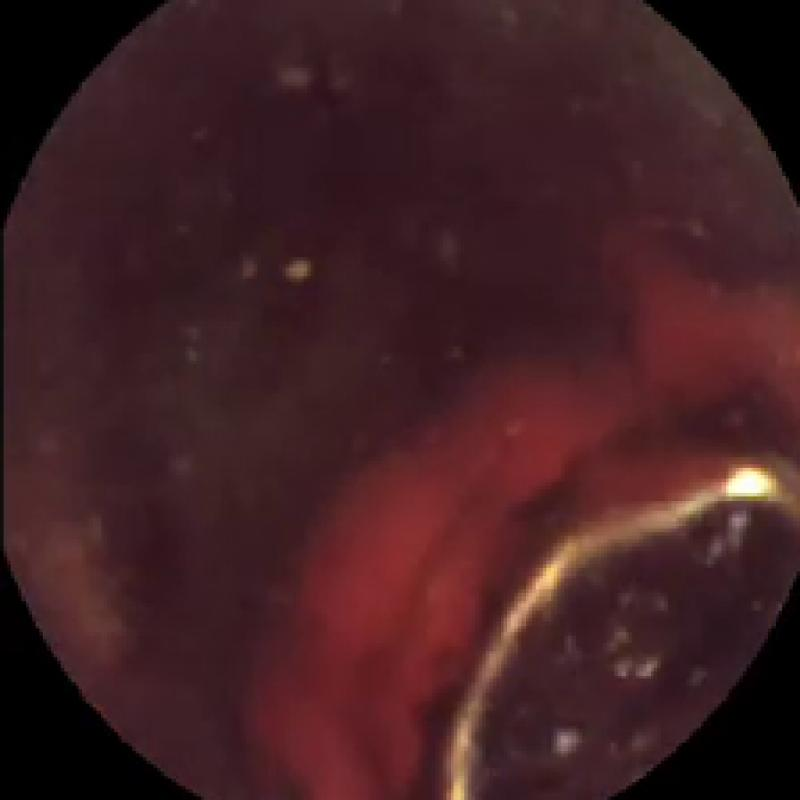bleeding: (214, 221, 800, 800)
